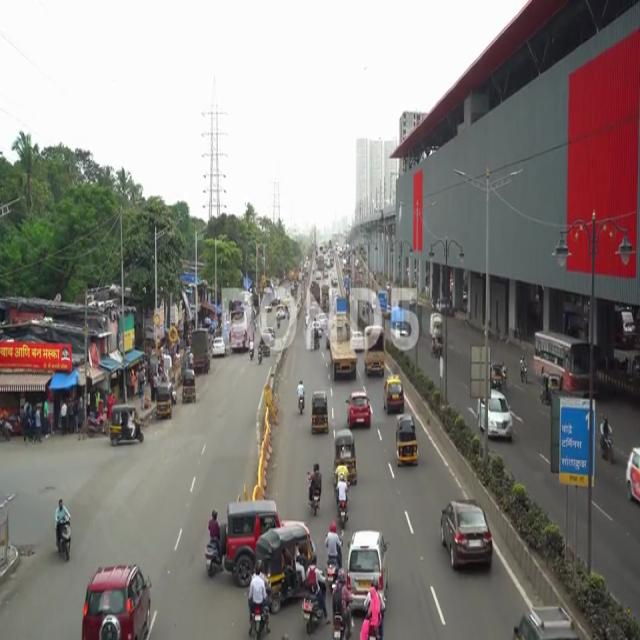car: (77, 562, 153, 640), (440, 498, 492, 574), (347, 525, 389, 604), (488, 390, 514, 440), (348, 392, 373, 428), (384, 374, 406, 412)
motorbike: (300, 556, 329, 632), (247, 565, 270, 639), (53, 494, 75, 560), (206, 499, 221, 583), (598, 410, 616, 467), (305, 459, 322, 517), (336, 475, 348, 529), (294, 373, 306, 416)
rikshaw: (395, 413, 419, 469), (312, 392, 329, 435)
